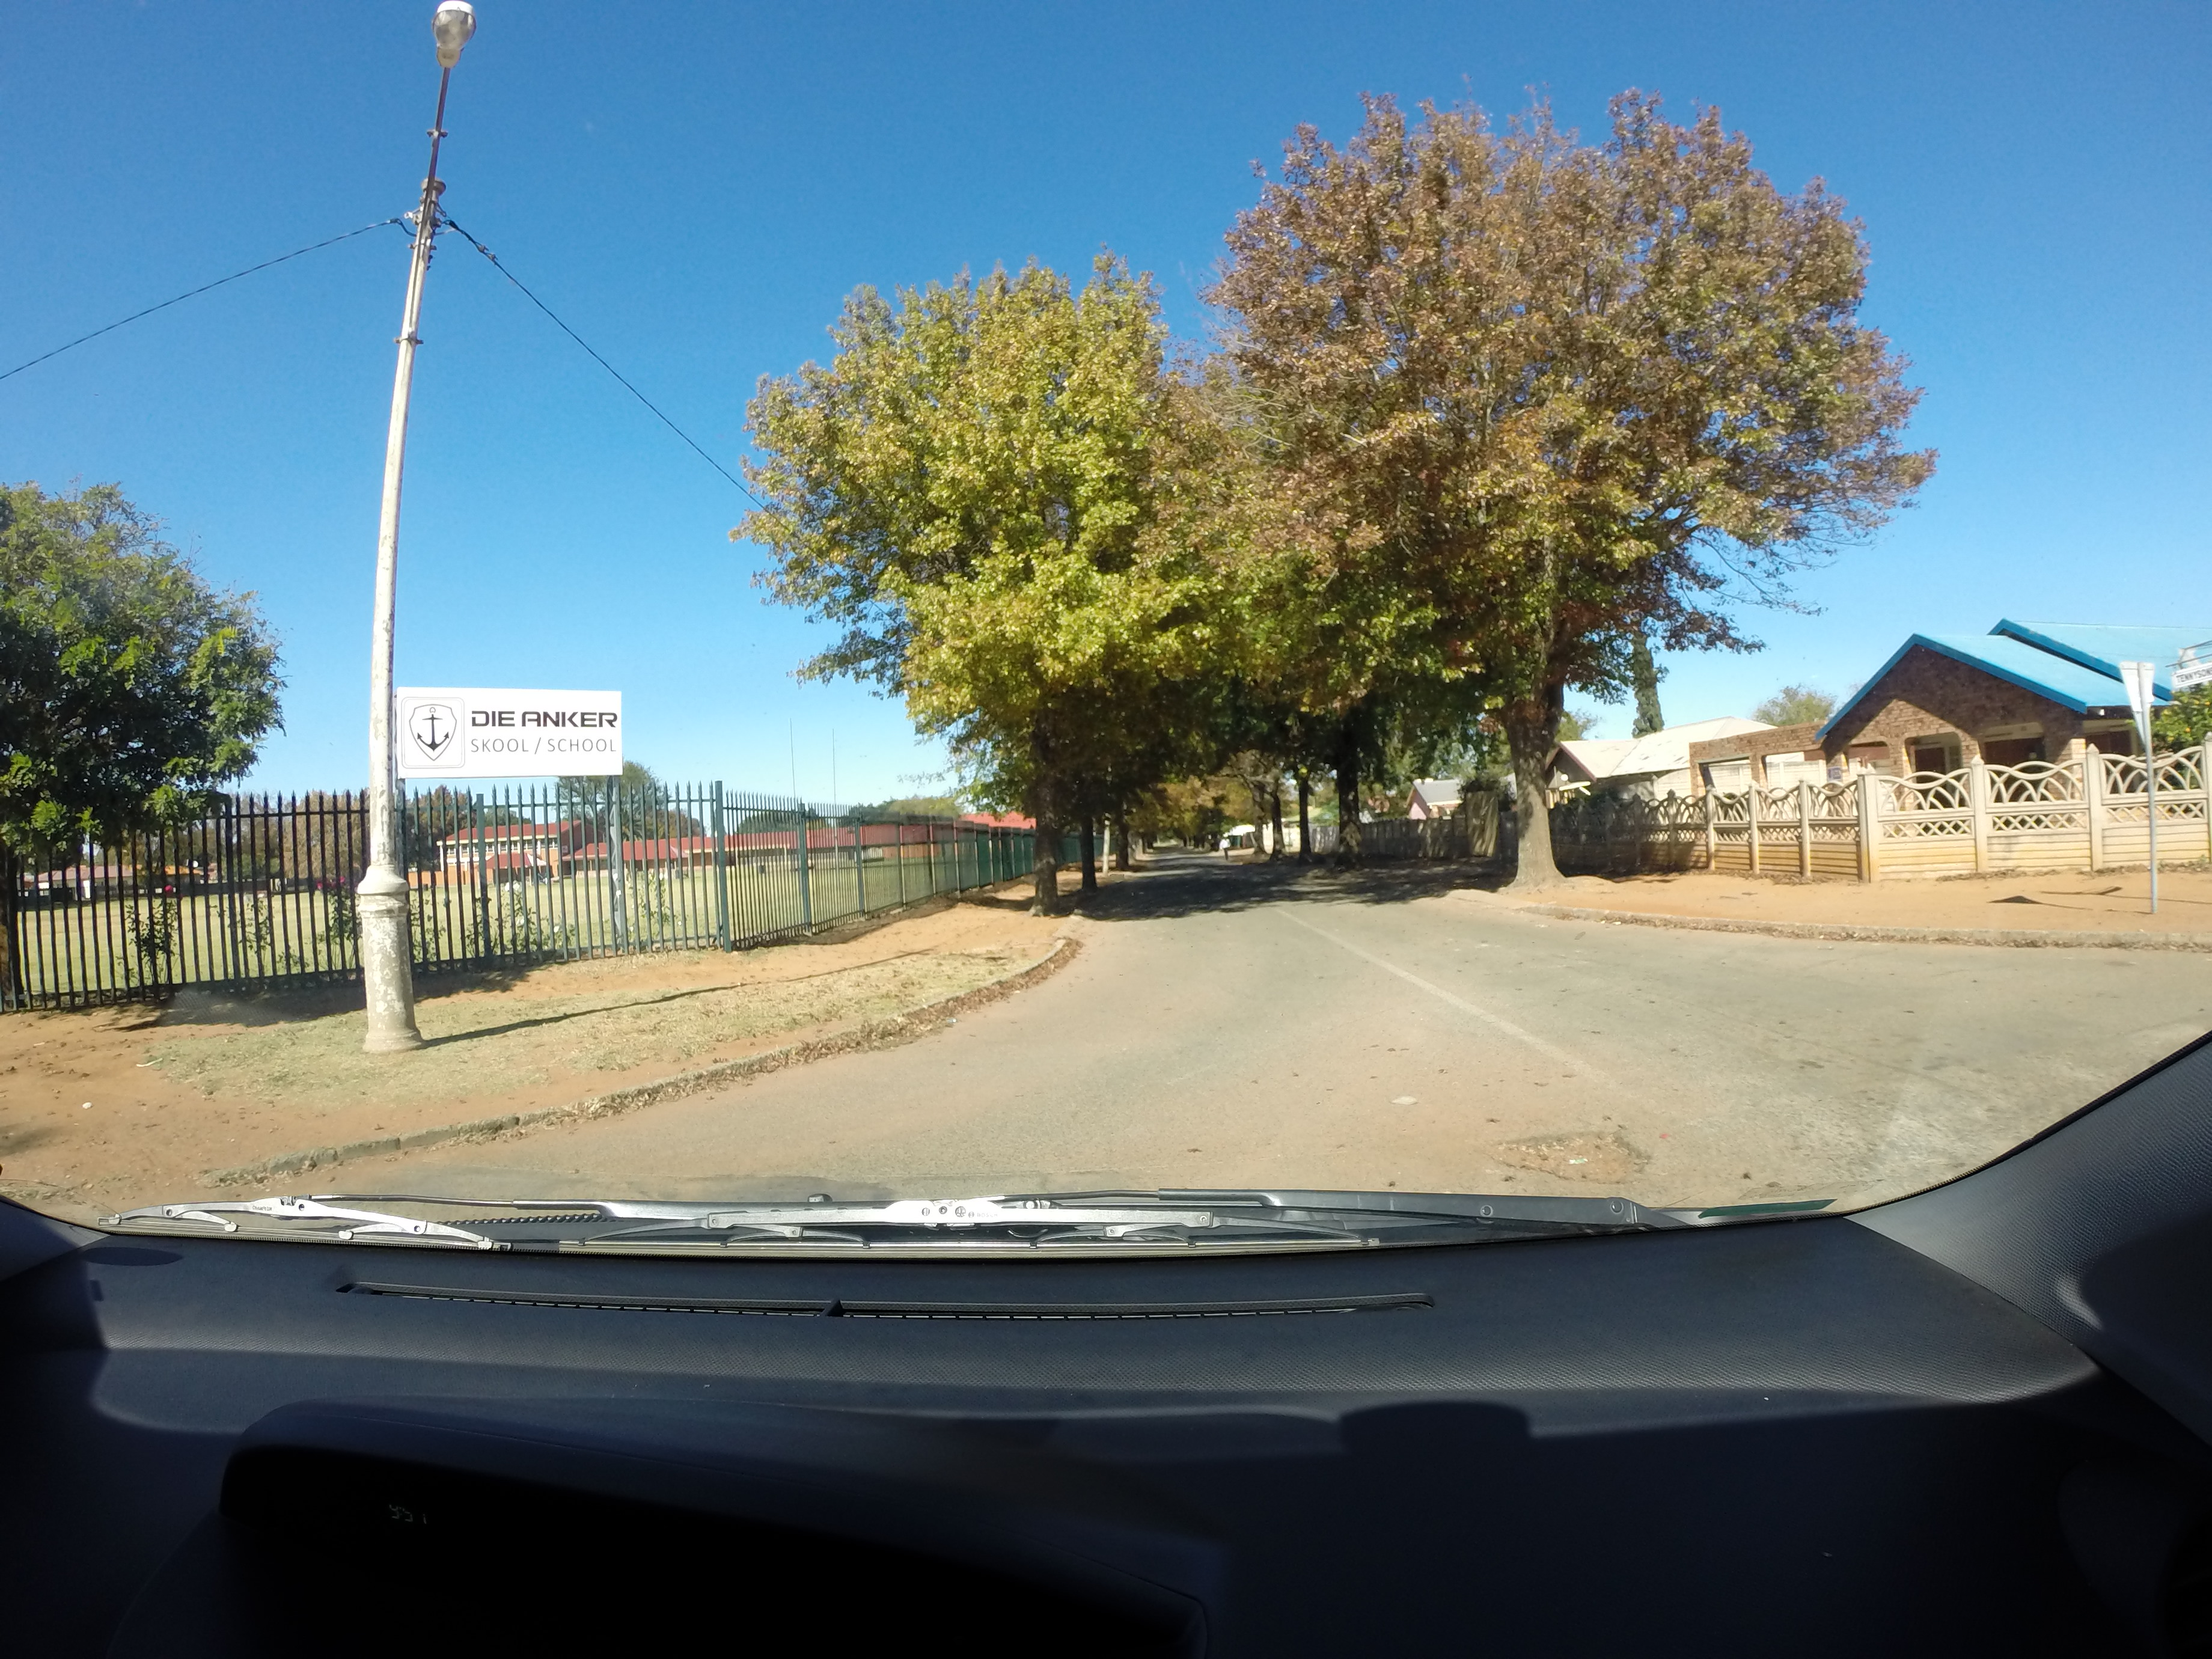pothole: (1447, 1093, 1693, 1197)
